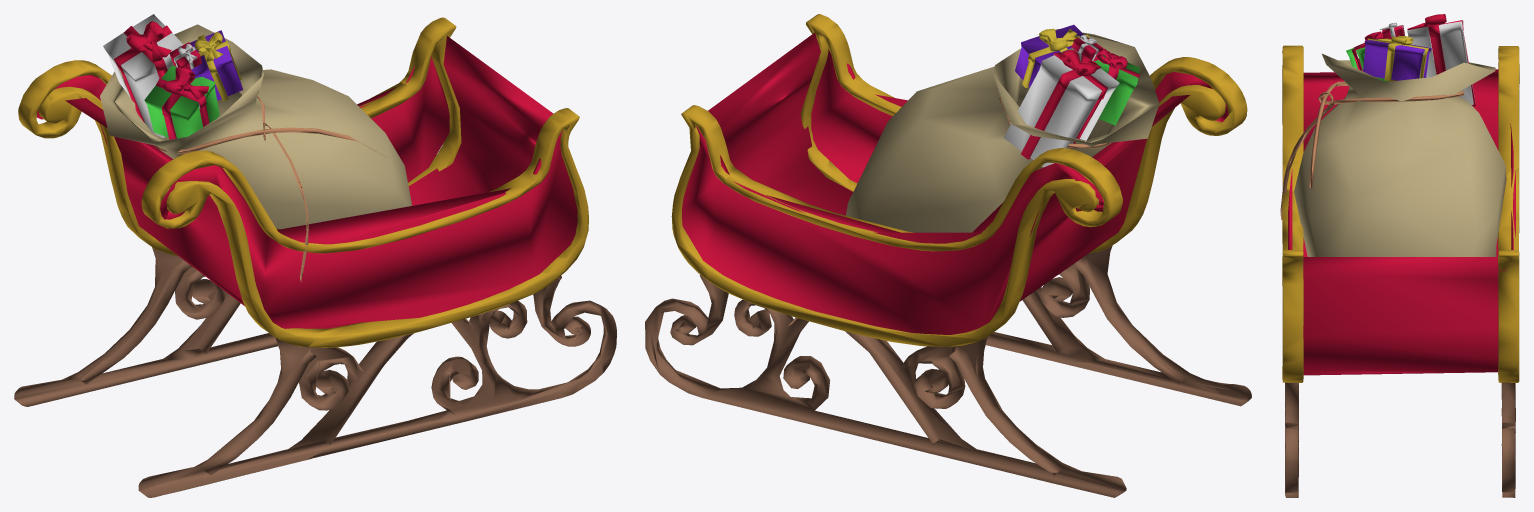
The model's file is trineo-plaza.glb.
The picture shows the model from 3 angles, left to right: view 1: azimuth 30°, elevation 25°; view 2: azimuth 150°, elevation 25°; view 3: azimuth 270°, elevation 25°; orthographic projection. The views are drawn at different scales.
Visible parts, largest first — view 1: Object_4; view 2: Object_4; view 3: Object_4.
Boxes of the visible parts, x1,y1,x2,y2 form: Object_4: [14, 14, 616, 497]; Object_4: [645, 14, 1251, 497]; Object_4: [1280, 14, 1519, 497].
Size of the model in its own units: 1.96 by 1.54 by 0.9807.
